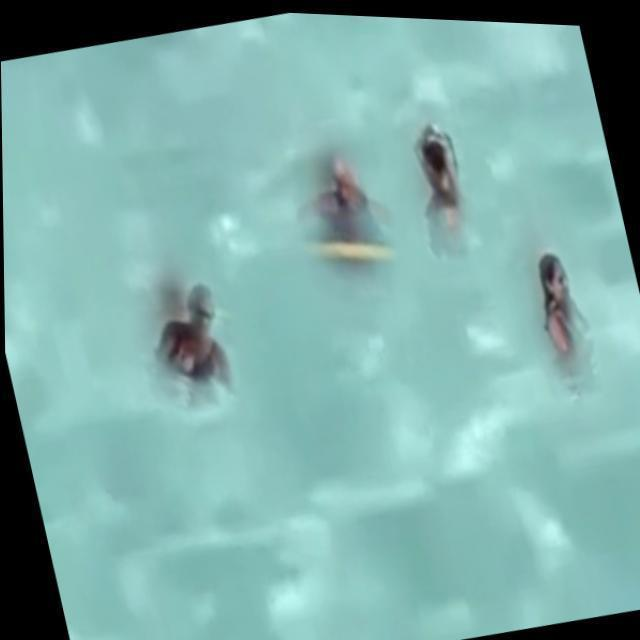swimming: (136, 265, 258, 418), (279, 143, 398, 298), (397, 121, 490, 278), (517, 247, 618, 391)
